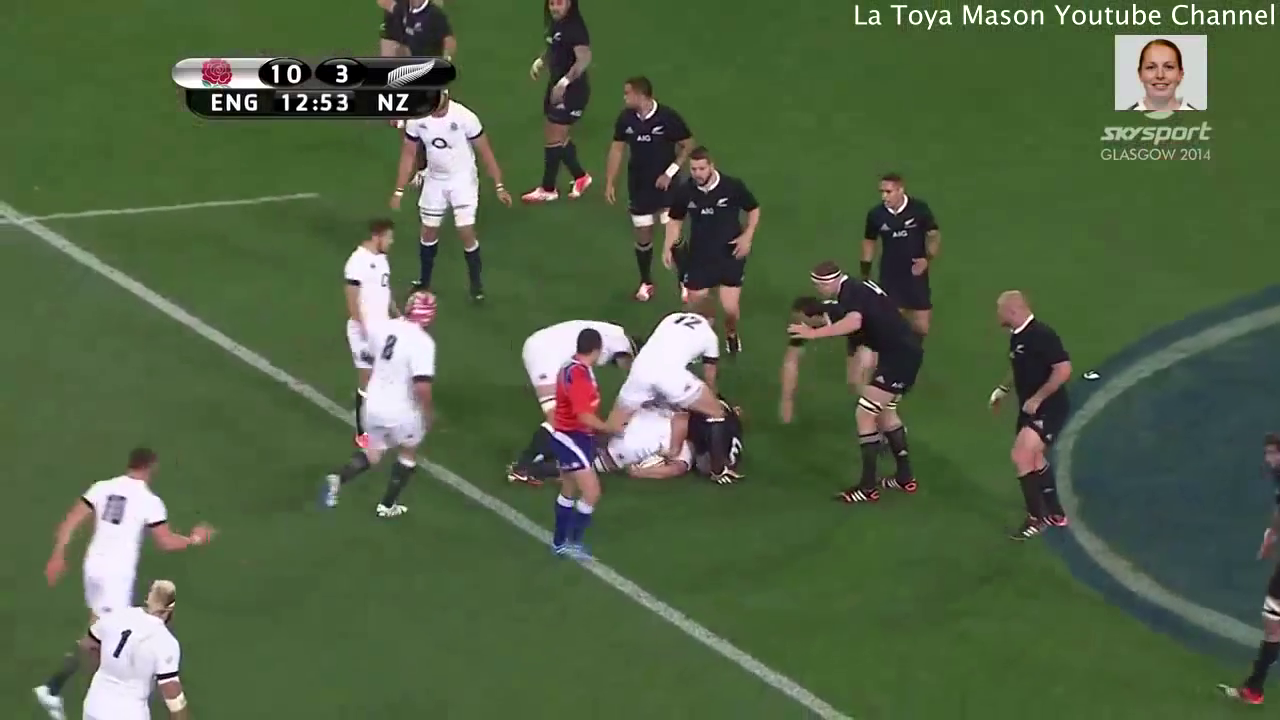player: (315, 282, 450, 532), (799, 257, 921, 509), (978, 281, 1091, 551), (373, 91, 514, 305), (48, 428, 191, 635), (655, 139, 762, 371), (599, 67, 684, 304), (69, 565, 196, 720), (536, 315, 615, 562), (516, 1, 604, 209), (849, 164, 946, 332), (338, 215, 397, 405), (625, 302, 721, 414)
ruck: (517, 312, 758, 489)
